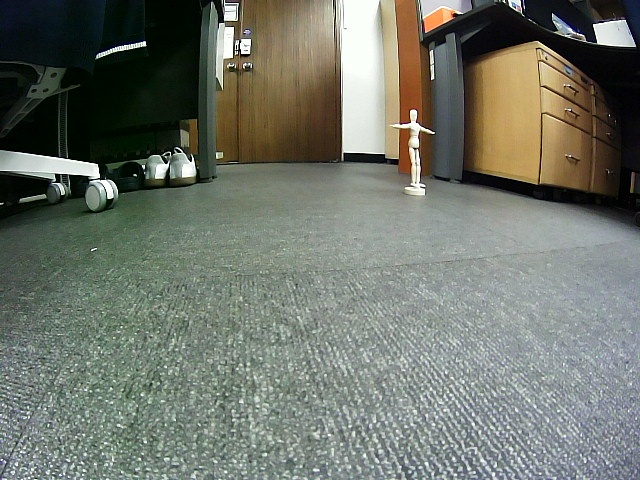person: (390, 108, 439, 188)
